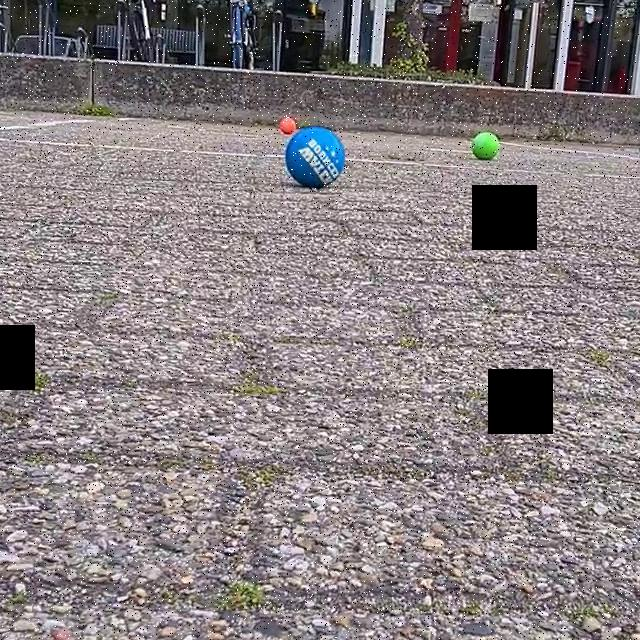ball: (470, 129, 503, 164), (278, 114, 296, 138)
